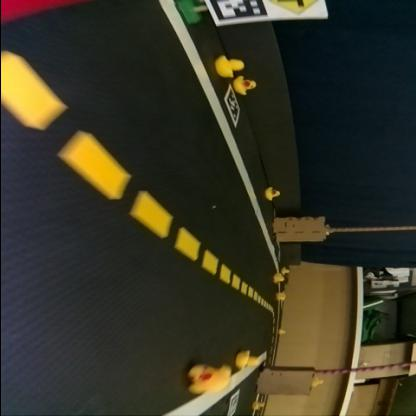Duckie: (189, 364, 231, 390), (216, 56, 242, 76), (235, 76, 256, 93), (238, 352, 258, 368), (265, 188, 280, 198), (252, 400, 264, 408), (313, 377, 323, 384), (274, 275, 282, 282), (278, 328, 286, 334), (278, 292, 285, 298), (282, 268, 289, 272)
Intersection sign: (270, 0, 324, 17)
QR code: (209, 0, 267, 21), (224, 86, 240, 126), (228, 390, 239, 414)
